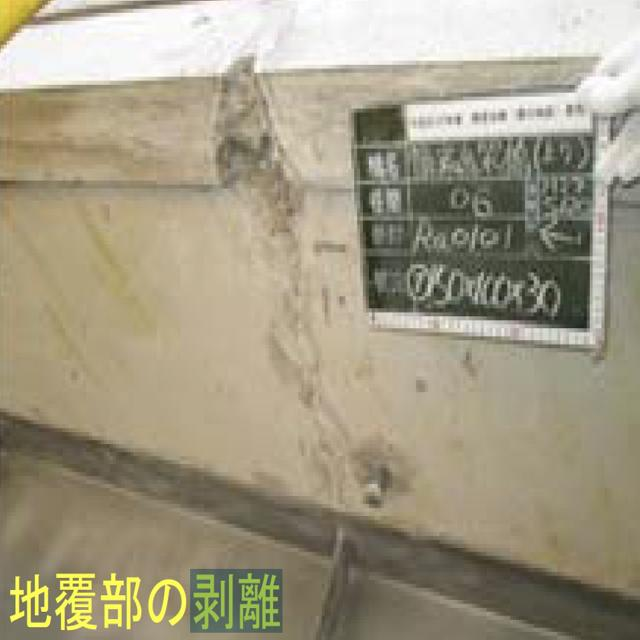spalling: (194, 41, 317, 302)
